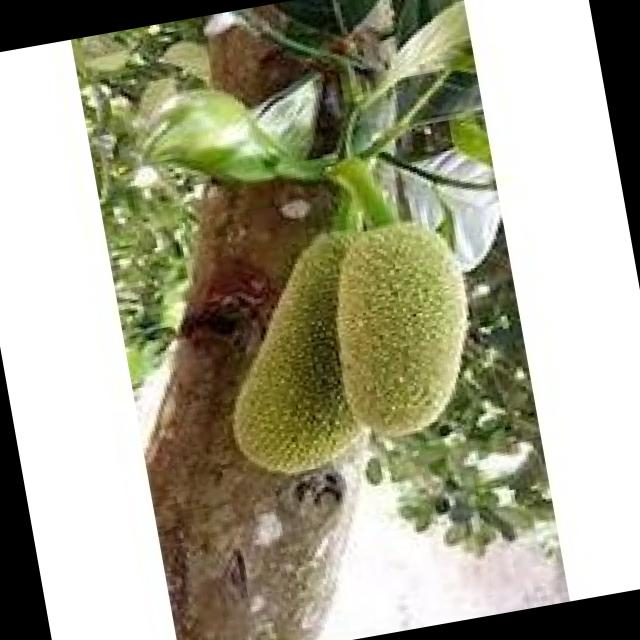Fruit: (193, 212, 384, 494), (303, 196, 502, 458)
